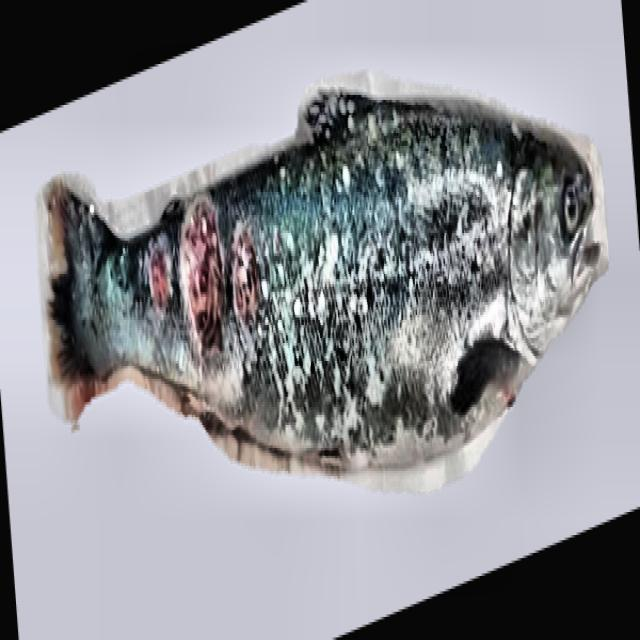wound: (181, 193, 228, 360), (232, 219, 263, 355), (149, 243, 171, 322)
